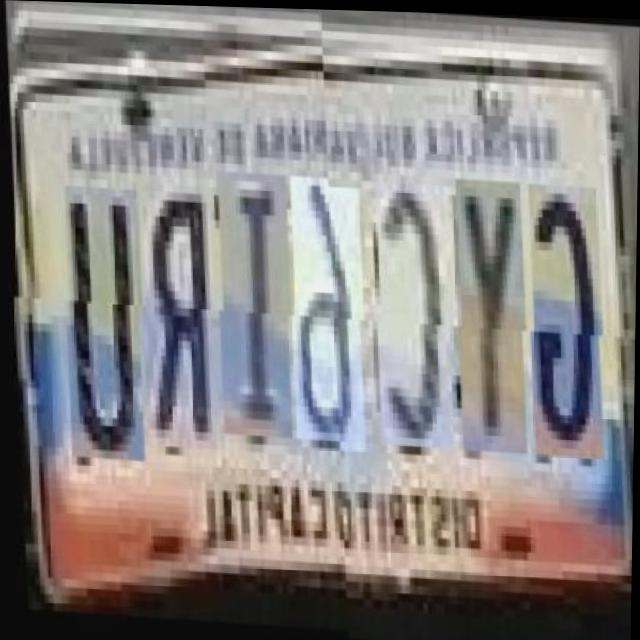6: (281, 185, 364, 452)
c: (367, 181, 454, 447)
g: (519, 180, 603, 456)
i: (208, 181, 293, 448)
r: (131, 193, 216, 460)
u: (56, 198, 144, 472)
y: (446, 176, 527, 452)
